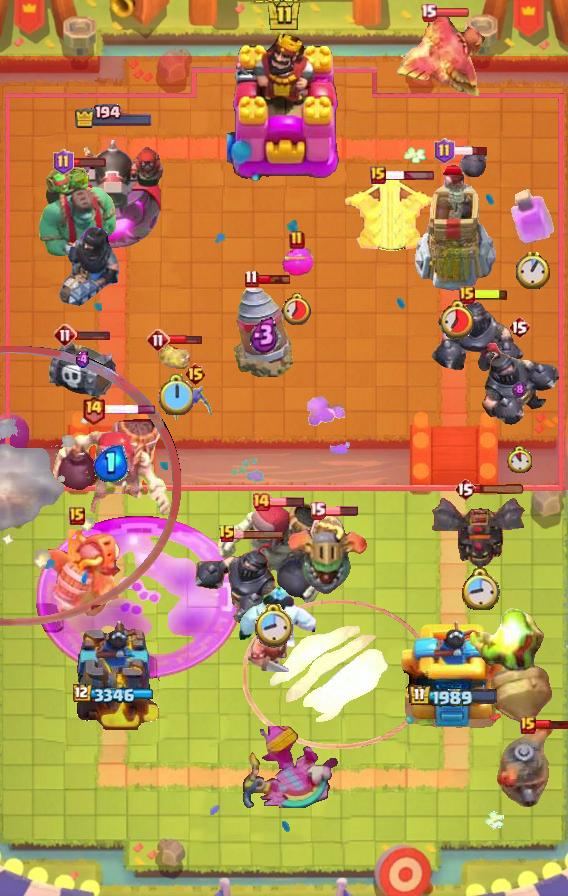archer-evolution: (432, 491, 528, 569)
barbarian: (173, 384, 217, 424)
dark-prince: (478, 723, 568, 809)
electro-giant: (51, 409, 171, 519), (215, 499, 331, 609)
electro-spirit: (94, 445, 130, 483), (250, 316, 279, 354), (75, 352, 91, 369), (512, 382, 526, 399)
elixir: (254, 604, 293, 649), (460, 567, 499, 609), (438, 299, 477, 339), (158, 373, 193, 414), (516, 251, 550, 289), (281, 292, 313, 324), (508, 447, 532, 474)
emote: (474, 484, 526, 496), (103, 404, 156, 415), (383, 171, 435, 182), (233, 528, 285, 539), (473, 287, 509, 301), (452, 145, 489, 157), (256, 273, 292, 285), (75, 329, 111, 341), (269, 496, 305, 508), (323, 505, 359, 517), (169, 334, 204, 346), (434, 7, 470, 18), (71, 157, 107, 168), (534, 719, 568, 730)
goblin-giant: (248, 616, 288, 672)
ice-spirit-evolution: (158, 341, 192, 373)
ice-wizard: (243, 599, 432, 749)
inferno-dragon: (57, 224, 121, 308)
king-tower: (227, 29, 341, 181)
knight-evolution: (36, 517, 244, 680), (511, 187, 555, 244)
lava-hound: (36, 163, 120, 275)
lava-pup: (341, 172, 439, 254)
magic-archer: (231, 283, 297, 381)
miner: (281, 246, 313, 276)
mother-witch: (393, 9, 489, 103)
night-witch: (30, 529, 124, 621), (286, 513, 372, 595)
queen-tower: (399, 617, 507, 731), (66, 617, 162, 731)
rage: (238, 587, 320, 653)
royal-ghost: (0, 346, 180, 626)
royal-guardian: (428, 295, 528, 375), (191, 539, 281, 627), (479, 342, 559, 428)
royal-recruit-evolution: (46, 340, 120, 404)
selected: (409, 684, 500, 709), (74, 103, 154, 128), (72, 684, 155, 705)
text: (82, 394, 106, 425), (53, 323, 77, 347), (146, 328, 170, 352), (53, 149, 75, 175), (184, 362, 207, 386), (433, 138, 454, 164), (508, 315, 530, 339), (454, 477, 476, 501), (251, 492, 271, 512), (218, 524, 236, 544), (309, 500, 327, 519), (419, 3, 437, 21), (289, 230, 305, 250), (370, 166, 386, 184), (459, 286, 475, 304), (69, 507, 85, 525), (520, 716, 536, 734), (245, 269, 259, 287)
tower-bar: (60, 132, 167, 256)
x-bow: (465, 584, 559, 728)
zappy: (413, 151, 501, 295)
